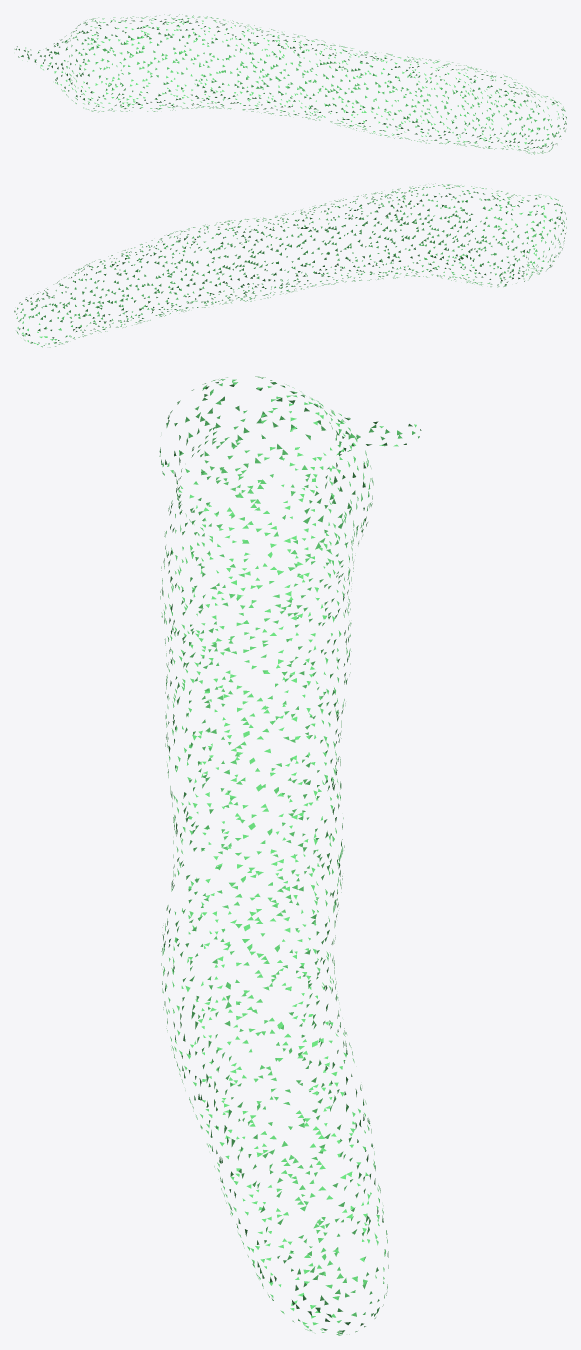
The model's file is morph_019.glb.
3 views of the same model, one above another, from view 1: azimuth 30°, elevation 25°; view 2: azimuth 150°, elevation 25°; view 3: azimuth 270°, elevation 25° (orthographic). The views are drawn at different scales.
Bounding box in the file's own units: 134 × 60.05 × 28.85.
